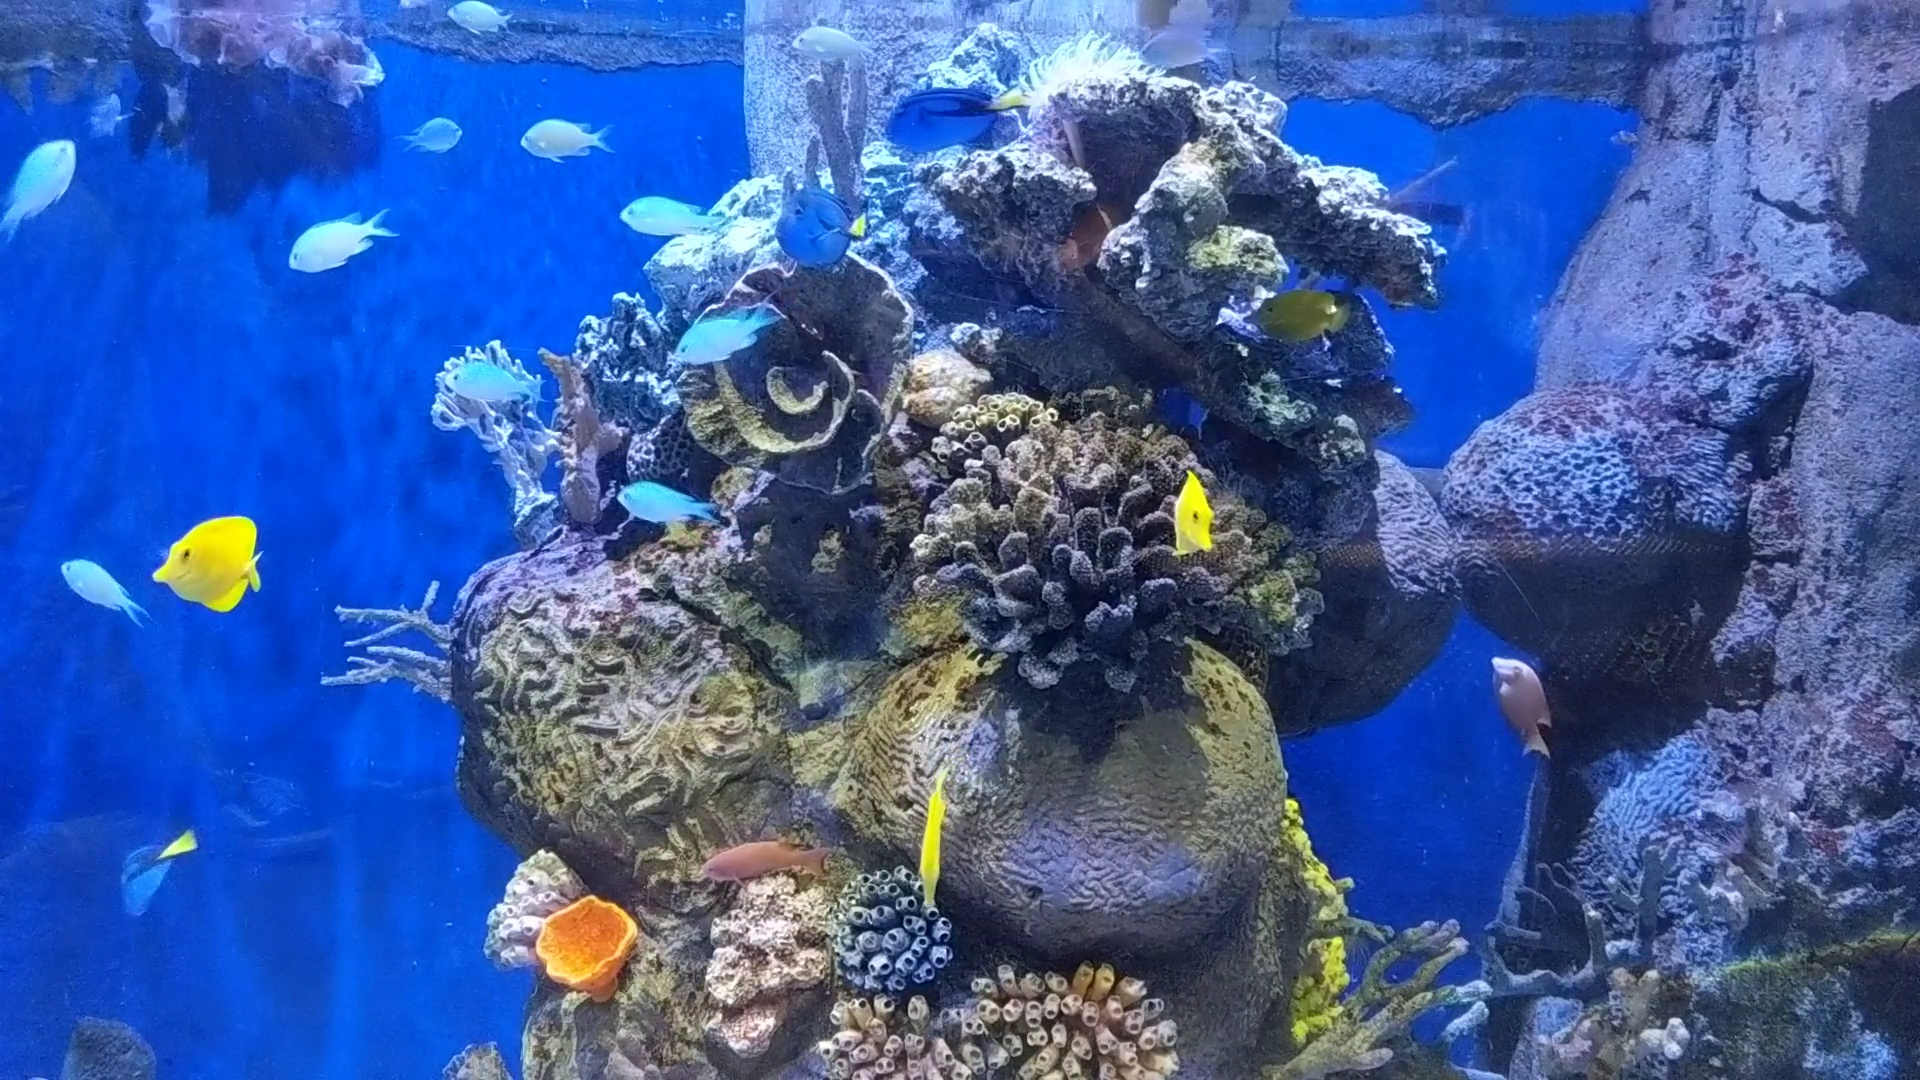blue tang surgeonfish: (866, 57, 1031, 164), (752, 165, 891, 274), (87, 823, 206, 935)
damselfish: (272, 195, 407, 298), (1, 127, 107, 245), (651, 278, 775, 376), (608, 456, 727, 541), (49, 542, 150, 632), (429, 353, 549, 425), (502, 98, 624, 167), (615, 183, 729, 251), (1131, 18, 1226, 80), (392, 107, 476, 160), (446, 0, 522, 57), (775, 25, 877, 67)
pink fish: (1476, 628, 1575, 775)
saddle butterfly fish: (141, 508, 282, 624), (1145, 458, 1230, 572), (1246, 272, 1362, 349), (905, 762, 957, 911)
